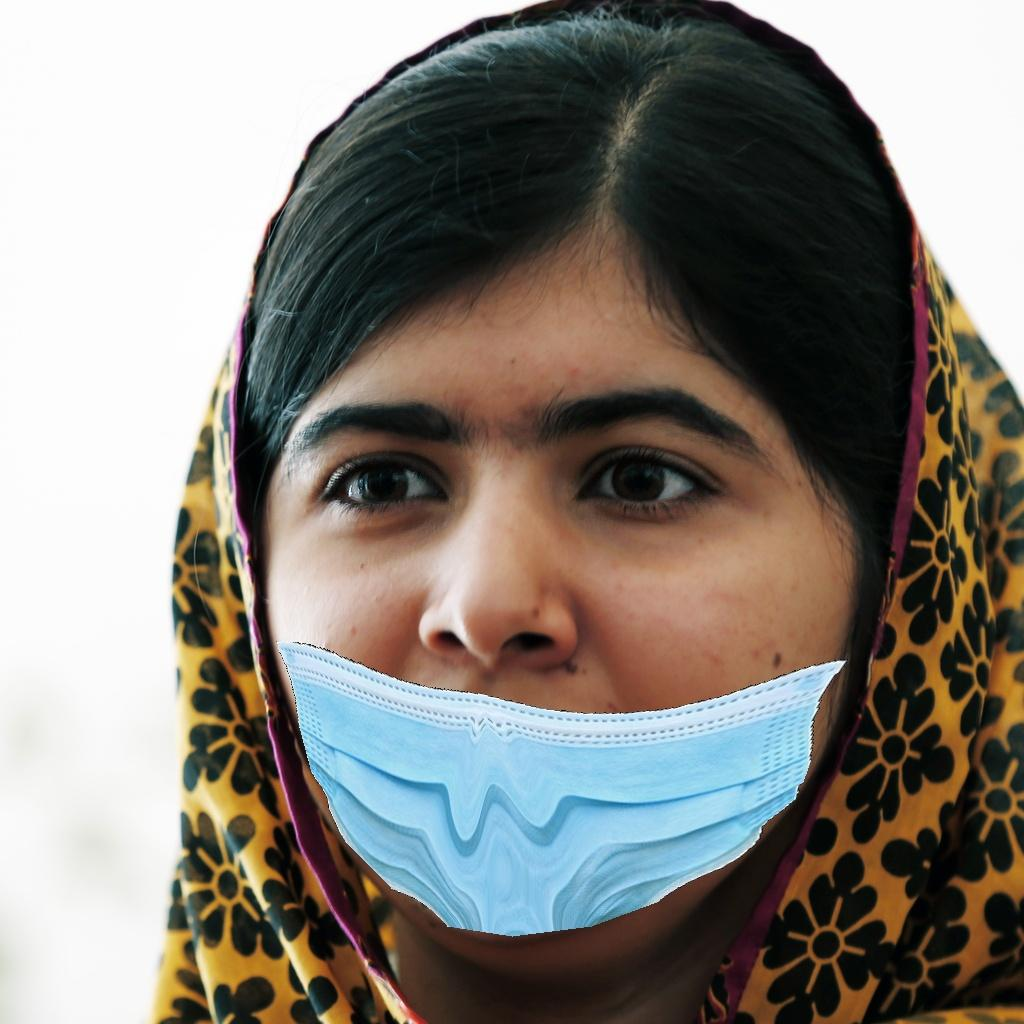Máscara Incorreta: (233, 259, 846, 944)
